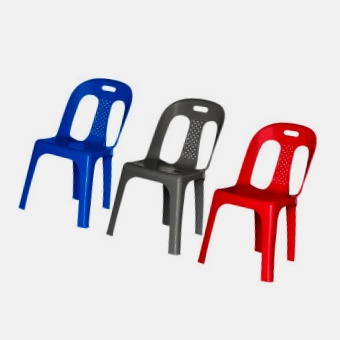plastic: (15, 70, 125, 232), (133, 88, 220, 247)
